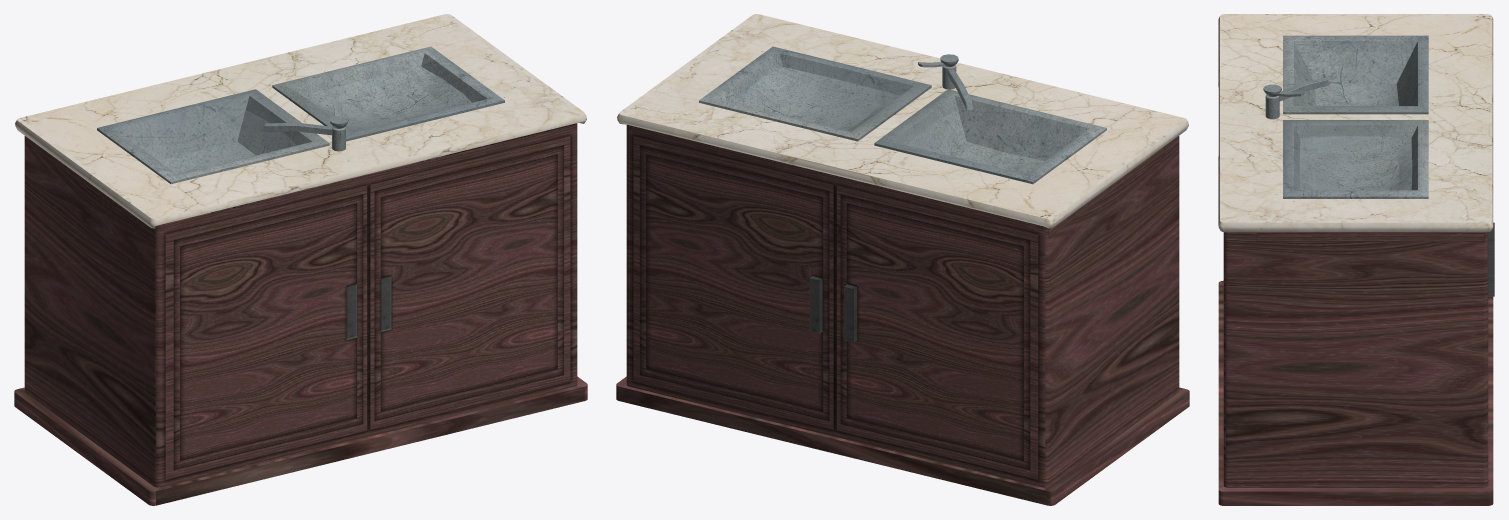
Rendered from Sink.fbx.
3 renders of one model, left to right at view 1: azimuth 30°, elevation 25°; view 2: azimuth 150°, elevation 25°; view 3: azimuth 270°, elevation 25°, orthographic.
Parts seen in each view (by area): view 1: Sink; view 2: Sink; view 3: Sink.
Part boxes in pixels (box(x1,y1,x2,y2)): Sink: box(14, 14, 587, 505); Sink: box(616, 14, 1189, 505); Sink: box(1218, 14, 1494, 505).
Size of the model in its own units: 0.6449 by 0.4454 by 0.3565.
Materials: 1 (1 with a texture image).
